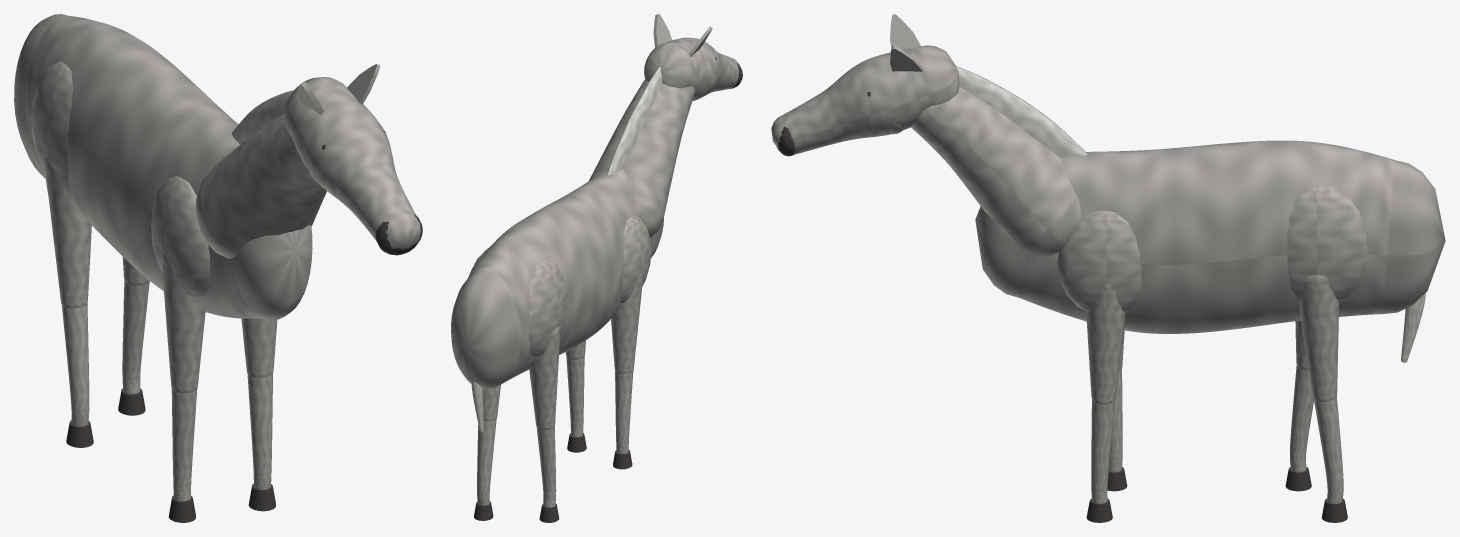
The model's file is farm-and-working-animals-hd-horse-standing-grey-2d38fa12__29174.glb.
3 views of the same model, side by side, from view 1: azimuth 30°, elevation 25°; view 2: azimuth 150°, elevation 25°; view 3: azimuth 270°, elevation 25° (orthographic). The views are drawn at different scales.
Visible parts, largest first — view 1: horse-standing-grey; view 2: horse-standing-grey; view 3: horse-standing-grey.
Boxes of the visible parts, x1=… form: horse-standing-grey: x1=14, y1=14, x2=422, y2=522; horse-standing-grey: x1=451, y1=14, x2=742, y2=522; horse-standing-grey: x1=771, y1=14, x2=1445, y2=522.
Size of the model in its own units: 0.5076 by 2.16 by 2.8.
3 materials, 3 textured.
